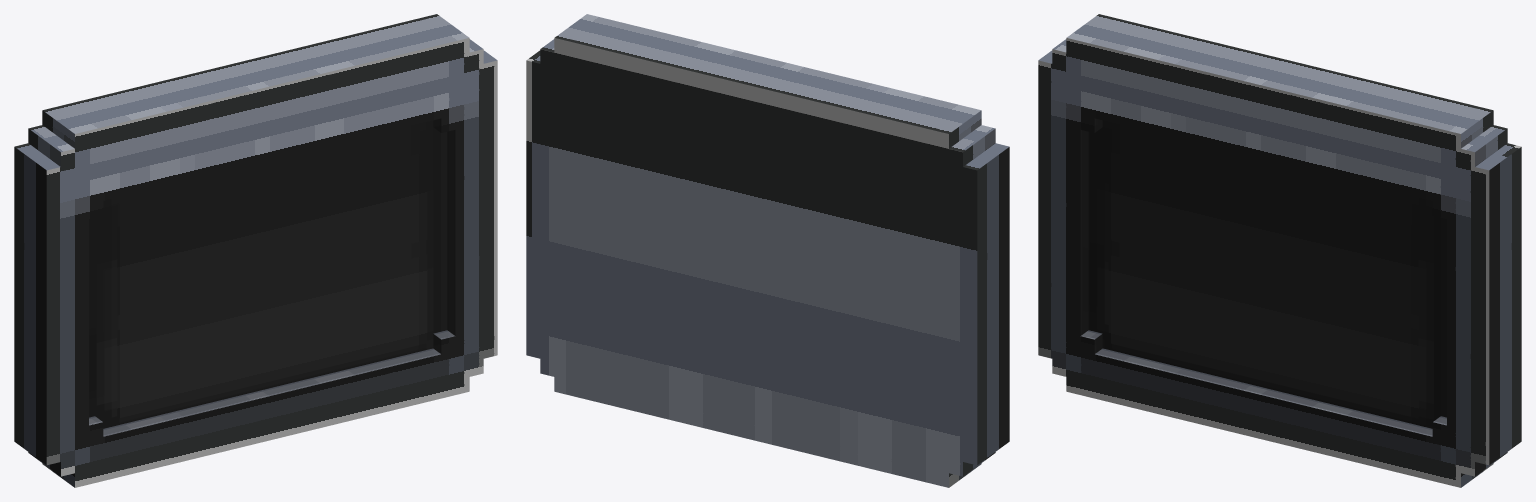
Rendered from status_display_text_ready.glb.
3 views of the same model, side by side, from view 1: azimuth 30°, elevation 25°; view 2: azimuth 150°, elevation 25°; view 3: azimuth 330°, elevation 25° (orthographic).
Parts seen in each view (by area): view 1: Continuous_Frame, Recessed_Glass, Text_Line_2_Overlay, Text_Line_1_Overlay; view 2: Continuous_Frame; view 3: Continuous_Frame, Recessed_Glass, Text_Line_2_Overlay, Text_Line_1_Overlay.
Part boxes in pixels (x1,y1,x2,y2): Continuous_Frame: [14, 14, 497, 487]; Recessed_Glass: [89, 119, 454, 436]; Text_Line_2_Overlay: [117, 255, 427, 418]; Text_Line_1_Overlay: [117, 151, 427, 315]; Continuous_Frame: [526, 14, 1009, 487]; Continuous_Frame: [1038, 14, 1521, 487]; Recessed_Glass: [1081, 119, 1446, 435]; Text_Line_2_Overlay: [1108, 255, 1418, 418]; Text_Line_1_Overlay: [1108, 151, 1418, 315].
Bounding box in the file's own units: 0.9 × 0.675 × 0.1129.
2 materials, 2 textured.
